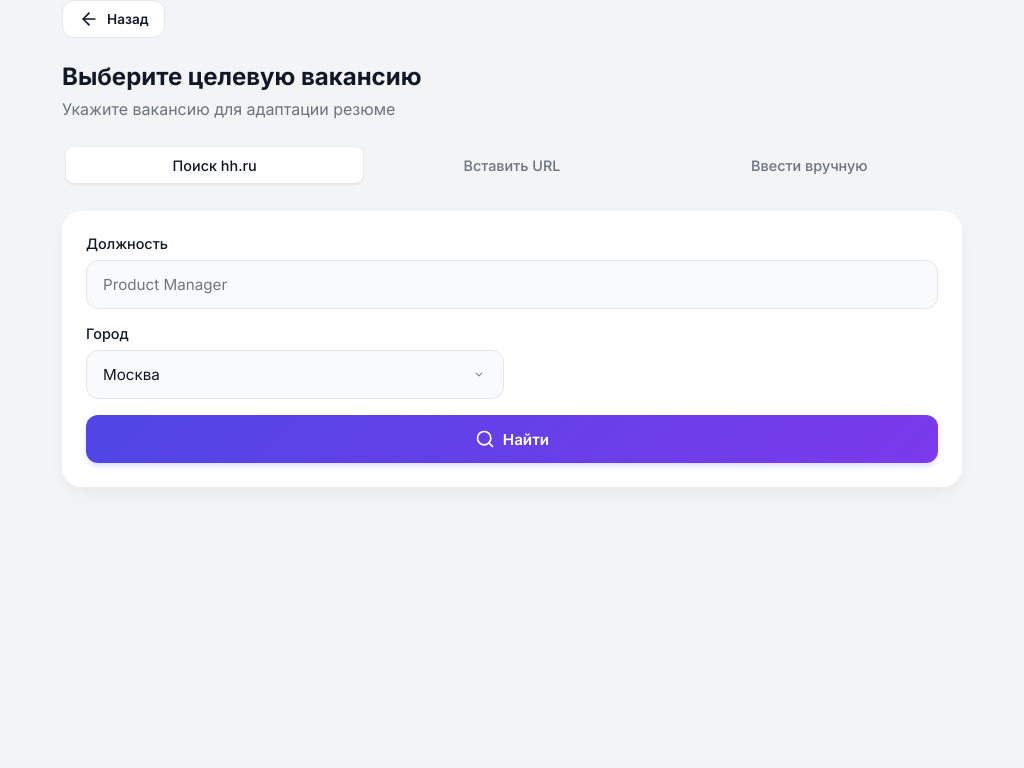
Test: VacancyPage v5 full vacancy details › shows vacancy cards after search
In the field with placeholder "Product Manager": (512, 285) [86,260,938,309], type "Python"
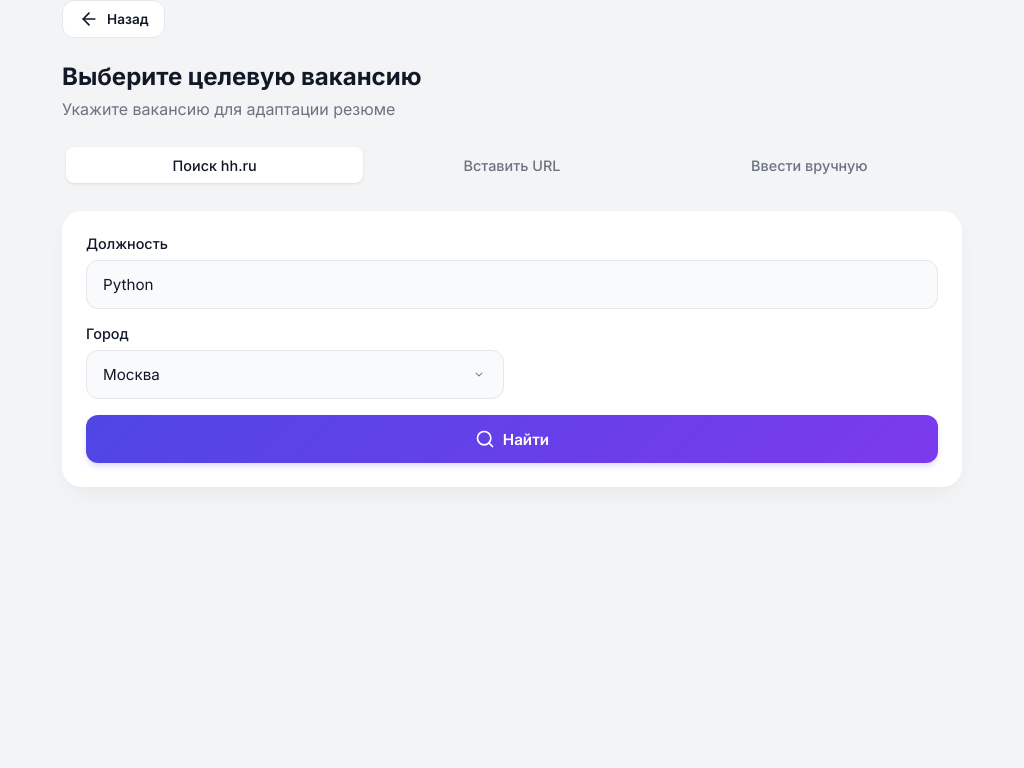
Click the button "Найти": (512, 439) [86,415,938,463]
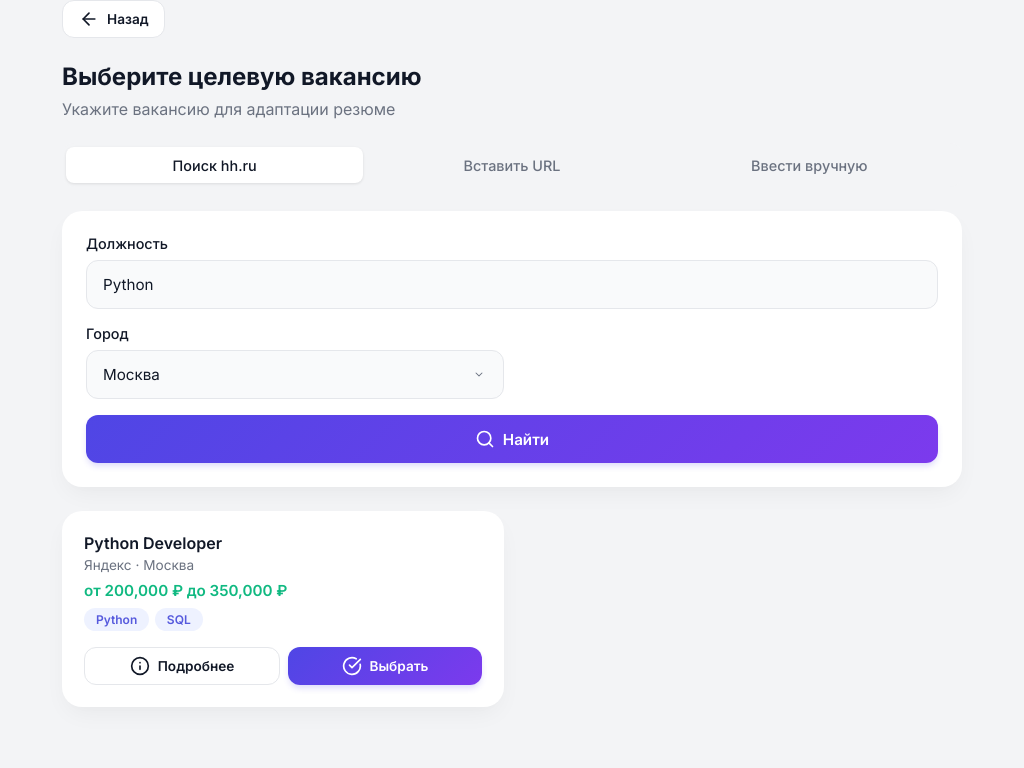
Expected: the heading "Python Developer" is shown, [84,533,222,553]
Expected: the text "Яндекс · Москва" is shown, [84,557,194,573]
